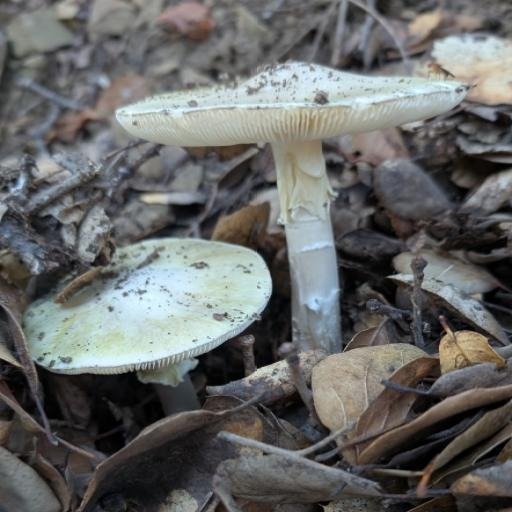mushroom: (63, 0, 465, 358), (16, 180, 285, 434)
